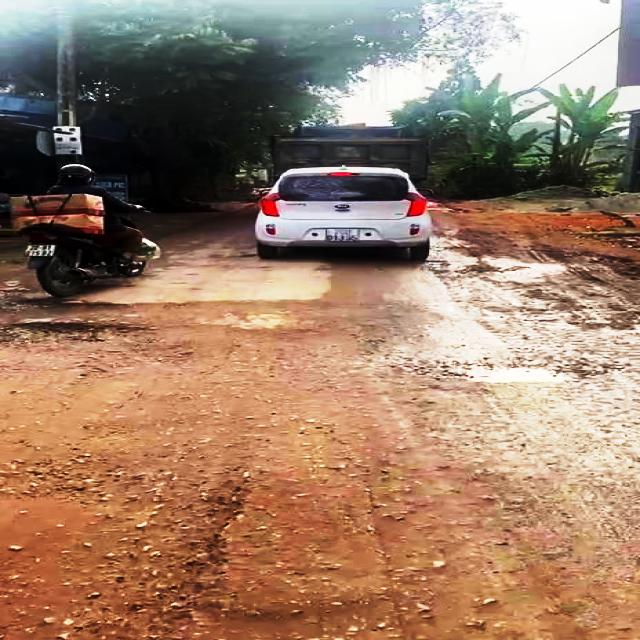pothole: (0, 445, 277, 640), (426, 357, 602, 389), (0, 318, 153, 352)
